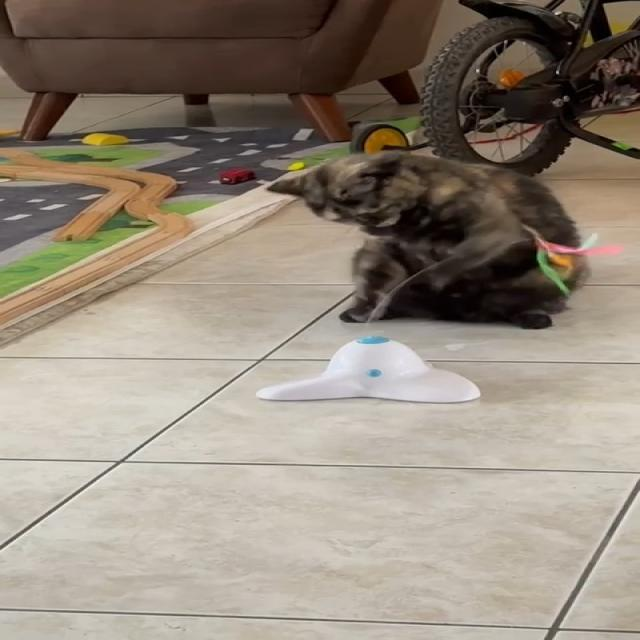authorized: (265, 149, 591, 329)
